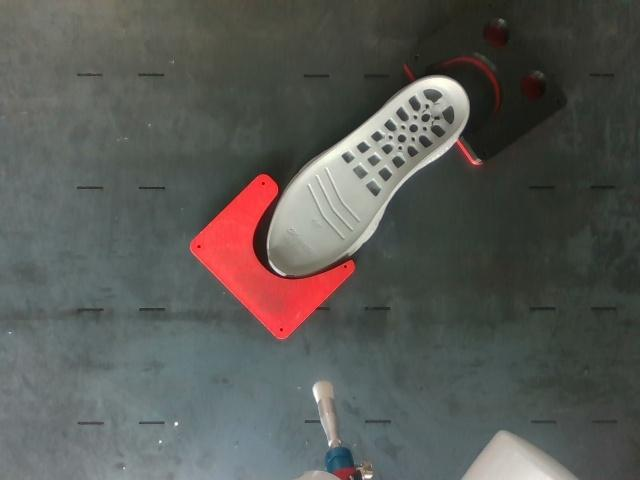shoes: (269, 77, 467, 278)
